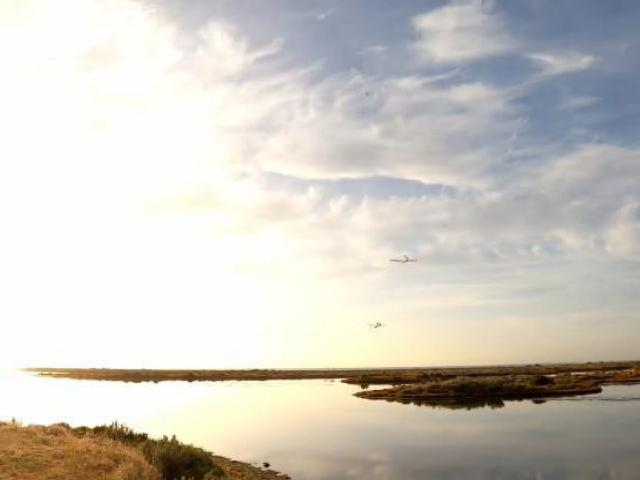uav: (389, 254, 417, 263)
